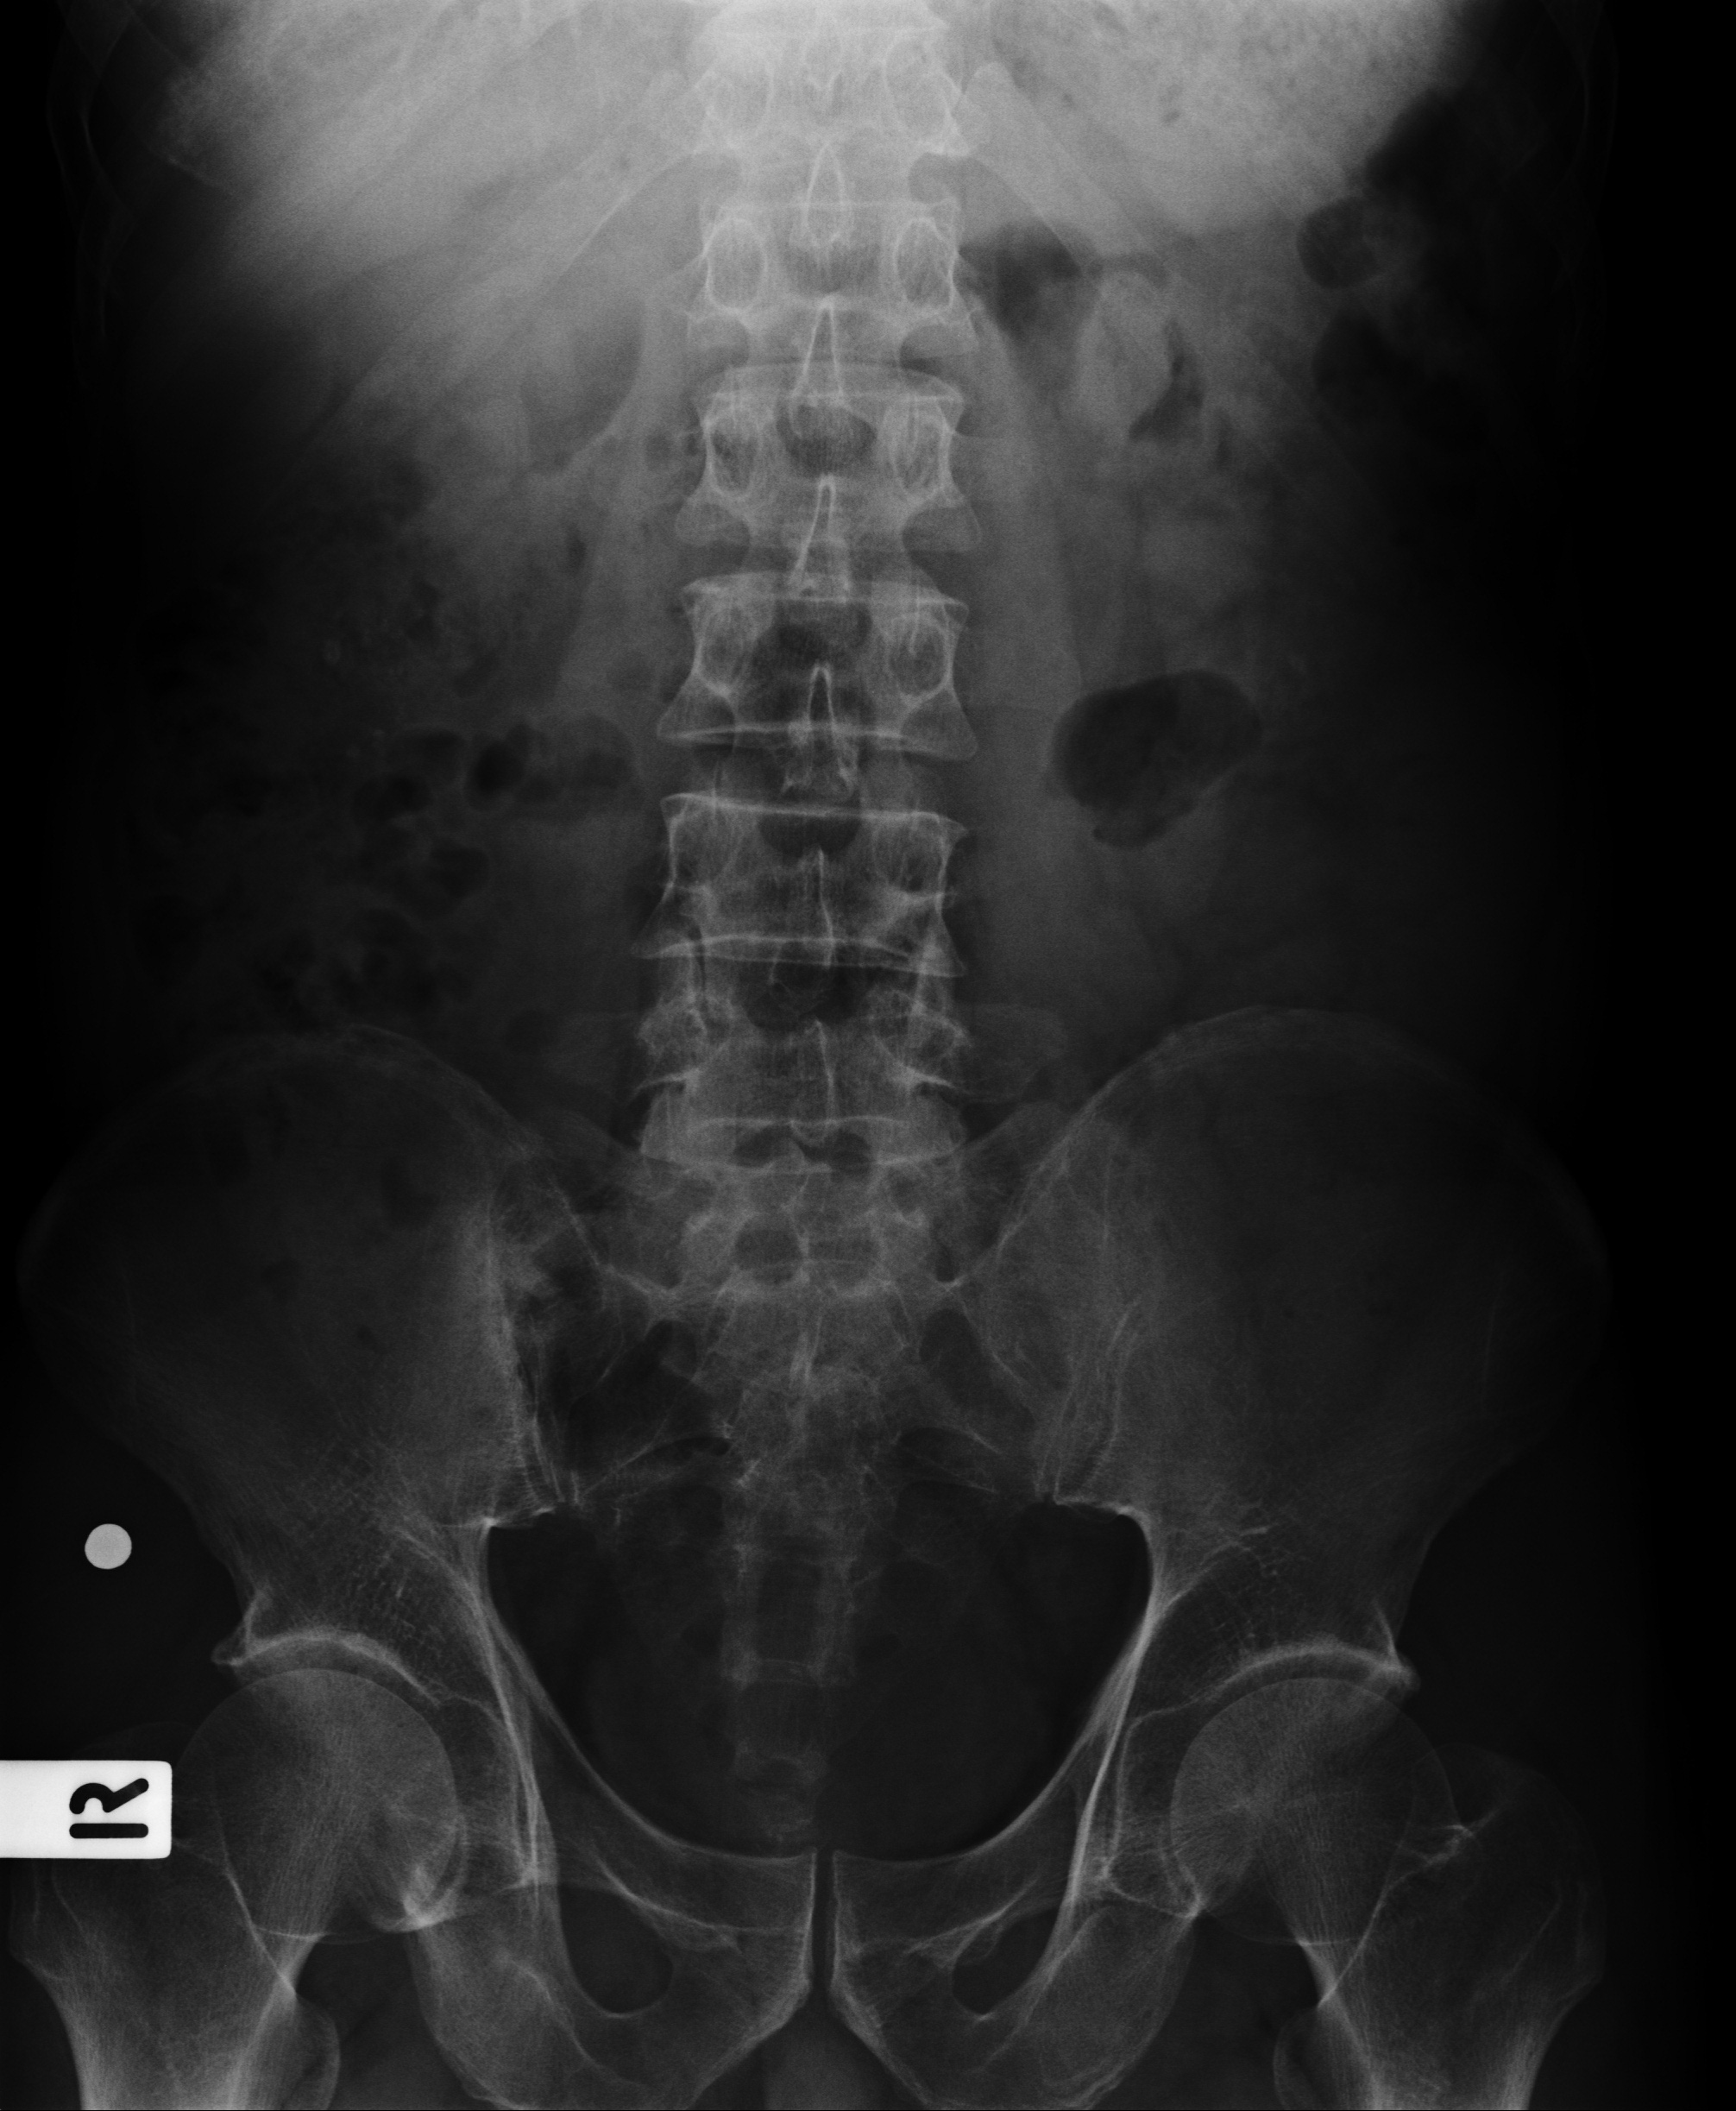lumbar scoliosis: (628, 14, 973, 1289)
